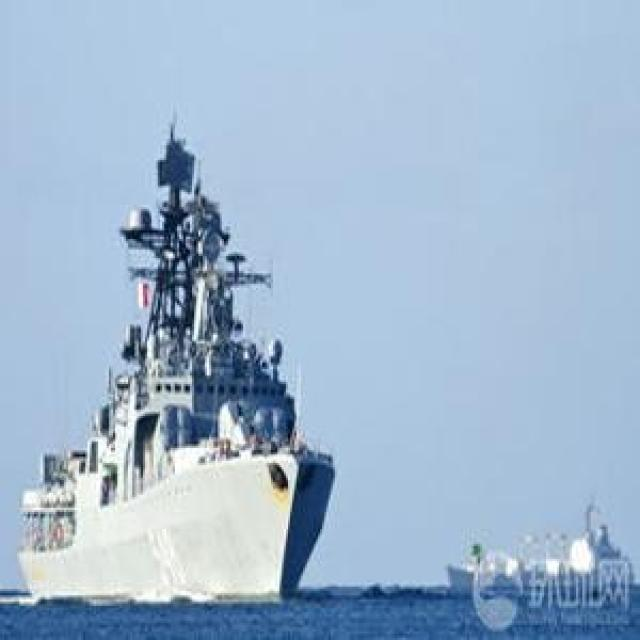navalvessels: (28, 100, 334, 607), (441, 482, 630, 596)
